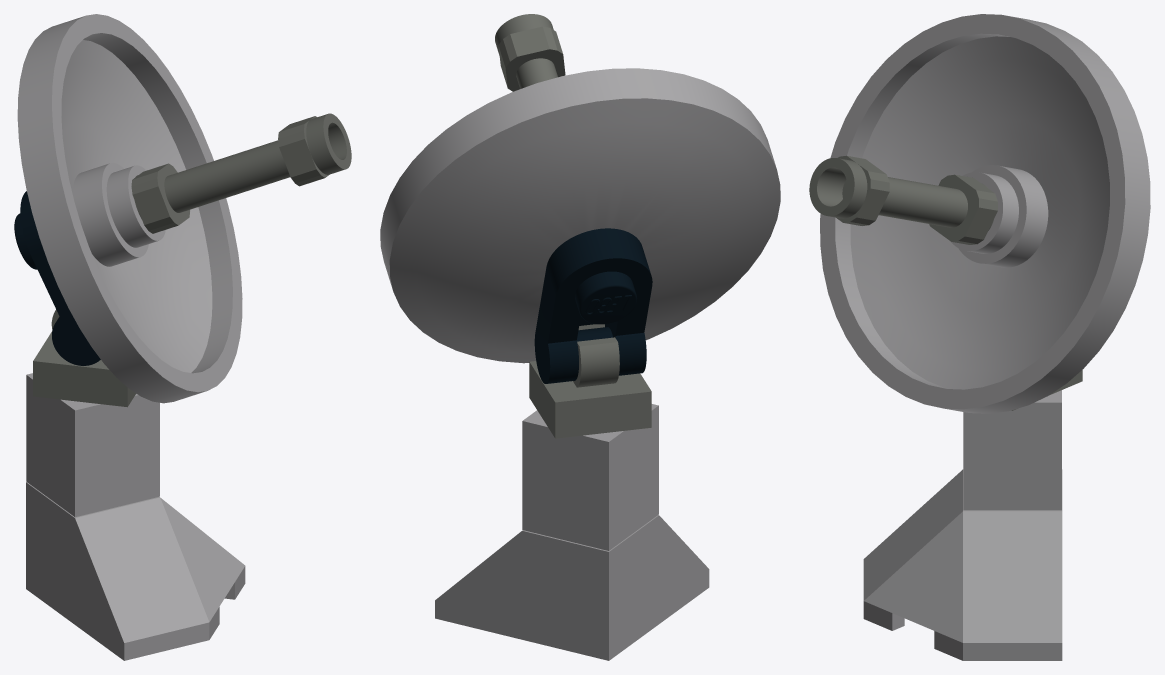
File: endor-shield.glb
3 views of the same model, side by side, from view 1: azimuth 30°, elevation 25°; view 2: azimuth 150°, elevation 25°; view 3: azimuth 270°, elevation 25° (orthographic). The views are drawn at different scales.
Parts seen in each view (by area): view 1: 35394.dat, 13548.dat, 3005.dat, 66909.dat, 15712.dat, 26047.dat; view 2: 35394.dat, 13548.dat, 3005.dat, 26047.dat, 15712.dat, 66909.dat; view 3: 35394.dat, 13548.dat, 3005.dat, 66909.dat.
Boxes of the visible parts, box(x1,y1,x2,y2) form: 35394.dat: box(17, 14, 242, 403); 13548.dat: box(26, 482, 245, 660); 3005.dat: box(26, 373, 159, 517); 66909.dat: box(131, 113, 351, 233); 15712.dat: box(33, 309, 136, 407); 26047.dat: box(14, 191, 100, 365); 35394.dat: box(380, 68, 780, 363); 13548.dat: box(435, 515, 709, 660); 3005.dat: box(522, 404, 658, 550); 26047.dat: box(534, 228, 652, 383); 15712.dat: box(529, 324, 651, 438); 66909.dat: box(495, 14, 565, 91); 35394.dat: box(820, 14, 1150, 413); 13548.dat: box(863, 469, 1062, 660); 3005.dat: box(963, 390, 1061, 510); 66909.dat: box(809, 155, 997, 244).
Size of the model in its own units: 0.6838 by 1.25 by 0.6835.
